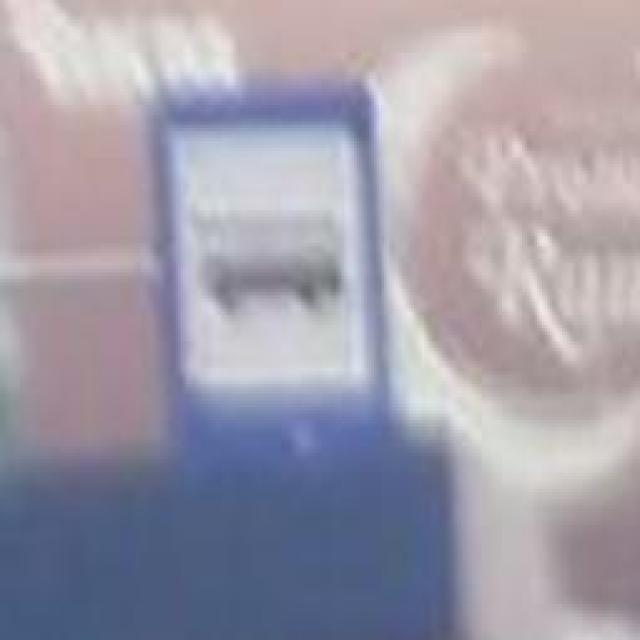traffic sign: (151, 85, 400, 488)
